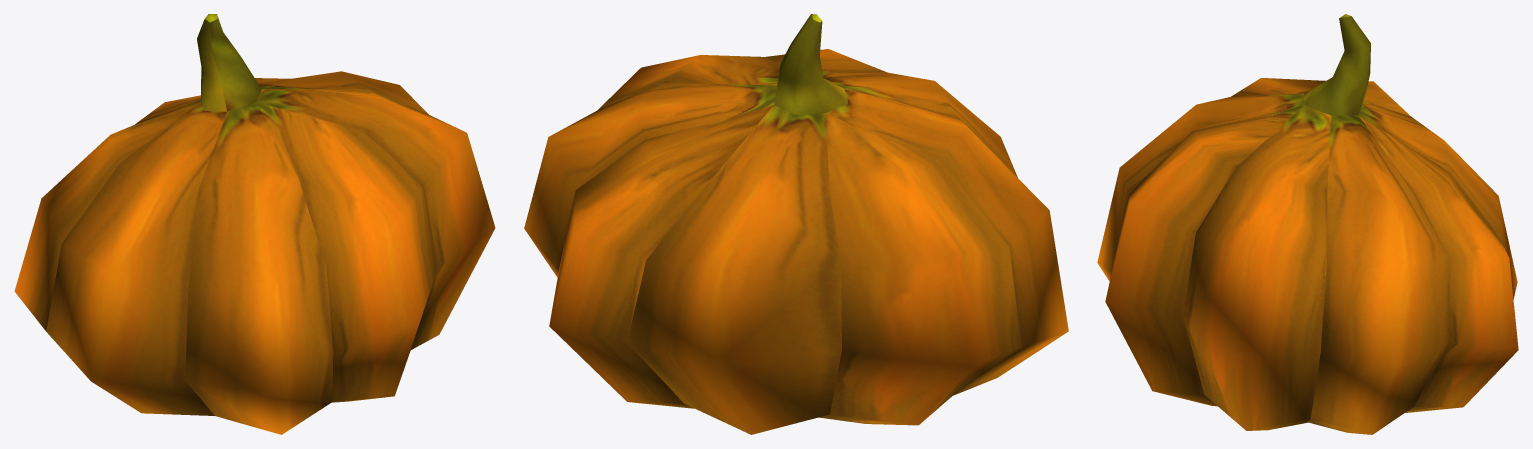
The model's file is ruraltown_pumpking_large_02.fbx.
3 renders of one model, left to right at view 1: azimuth 30°, elevation 25°; view 2: azimuth 150°, elevation 25°; view 3: azimuth 270°, elevation 25°, orthographic. The views are drawn at different scales.
Parts seen in each view (by area): view 1: ruraltown_pumpking_large_02; view 2: ruraltown_pumpking_large_02; view 3: ruraltown_pumpking_large_02.
Part boxes in pixels (x1,y1,x2,y2): ruraltown_pumpking_large_02: (14,14,495,434); ruraltown_pumpking_large_02: (524,14,1068,434); ruraltown_pumpking_large_02: (1097,14,1518,434).
Bounding box in the file's own units: 1.02 × 0.8399 × 0.889.
